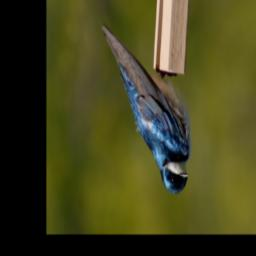Swallow: (101, 20, 193, 199)
